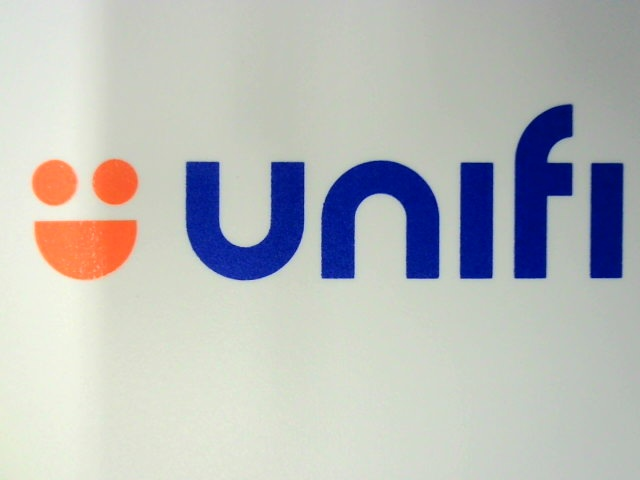BN_unifi: (20, 101, 627, 288)
